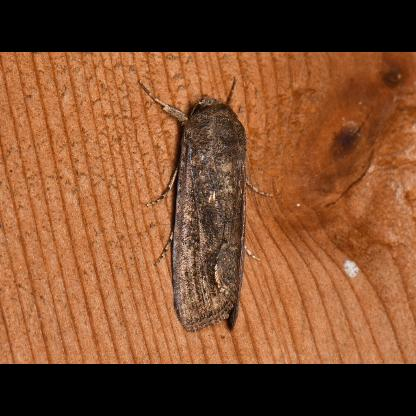Fall Armyworm Moth: (136, 74, 276, 334)
